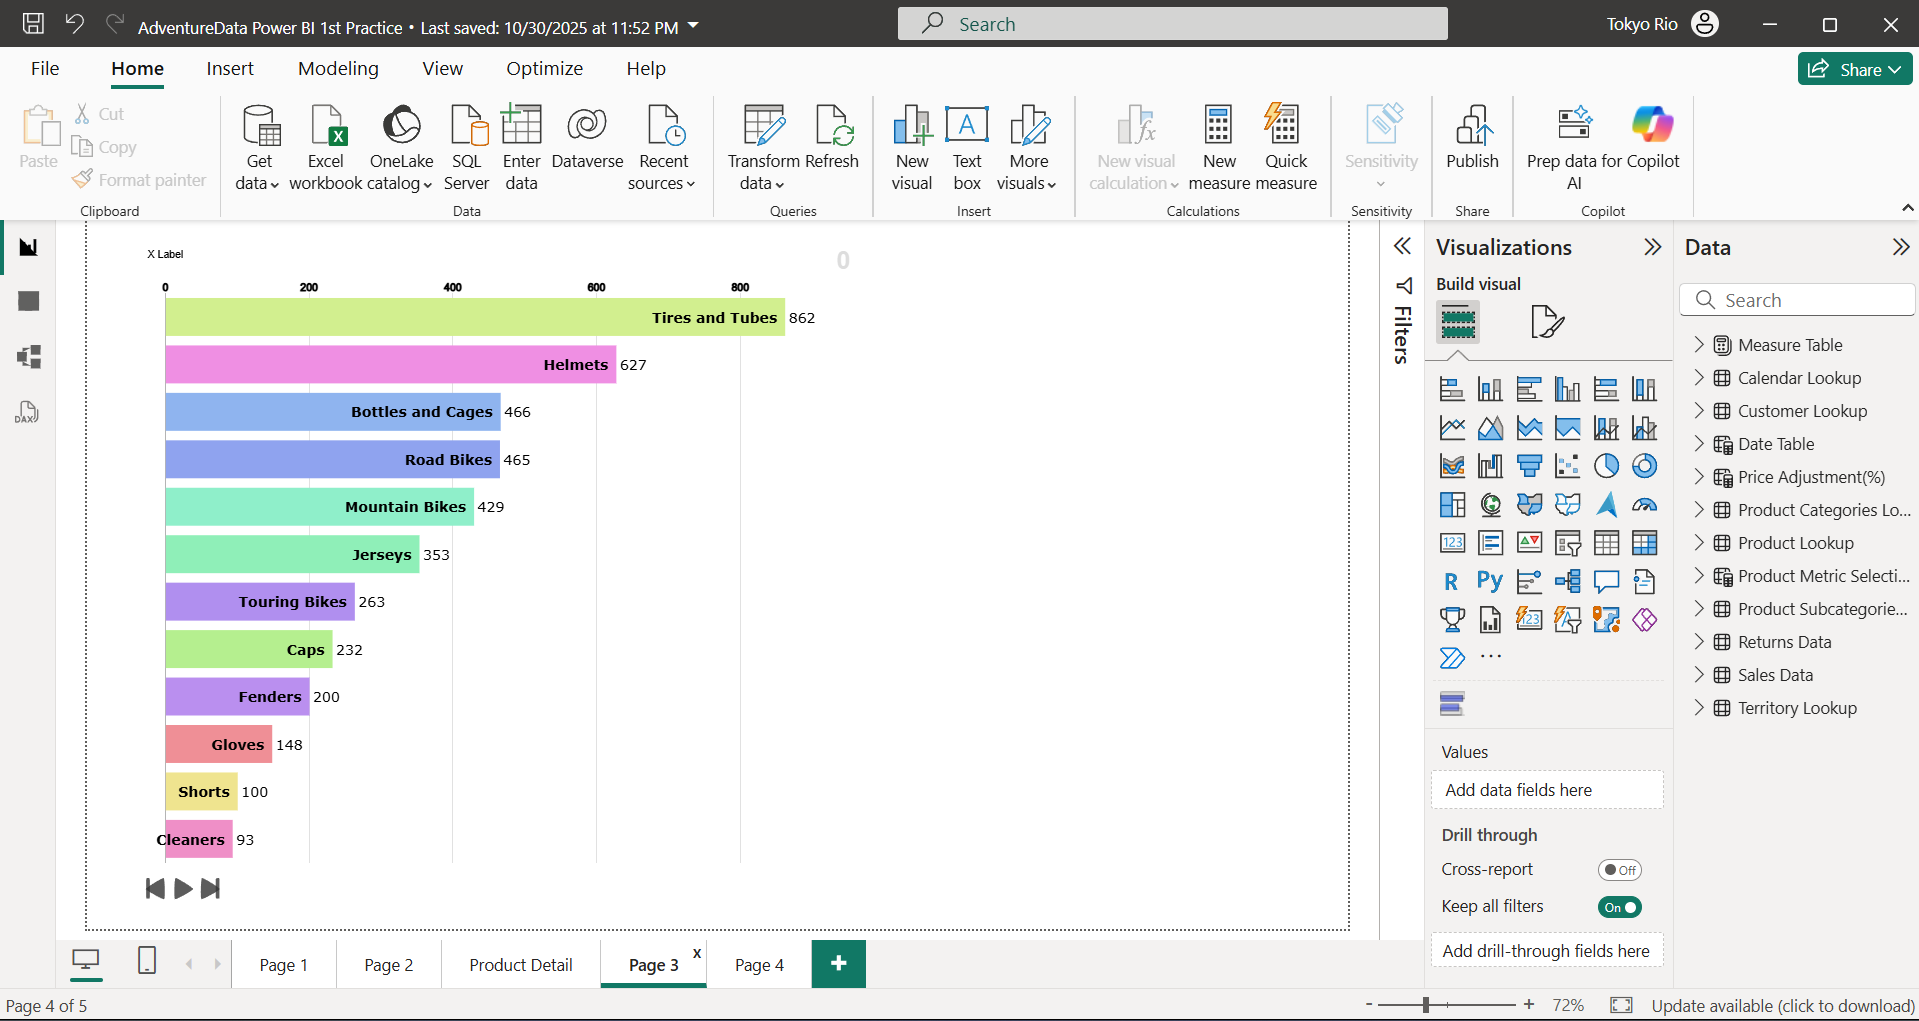

Layout of this report page (visuals, bound fields, positions):
{"tool":"powerbi","page":{"name":"Page 3","canvas":[1280,720],"ordinal":3},"visuals":[{"type":"RaceBarChart828E7F9A76D539488CE6C92657D234CF","fields":{"barRaceChart_chartItems":["Product Subcategories Lookup.SubcategoryName"],"barRaceChart_chartValues":["Measure Table.Total Orders"],"barRaceChart_chartPeriods":["Calendar Lookup.Start of Month"]},"box":[14,14,793.3,692.7],"z":0}]}

Visuals, with their boxes on the page's 1280x720 design canvas (x1, y1, x2, y2). These are canvas units, not pixel positions in the 1919x1021 screenshot, which may show the page scaled, cropped or inside an application window:
RaceBarChart828E7F9A76D539488CE6C92657D234CF - Product Subcategories Lookup.SubcategoryName x Measure Table.Total Orders: 14/14/807/707
